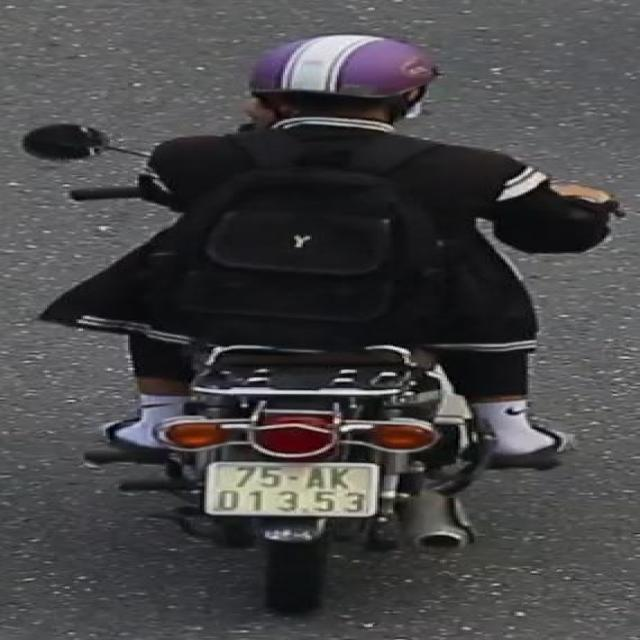LP: (196, 458, 390, 520)
helmet: (236, 28, 458, 144)
